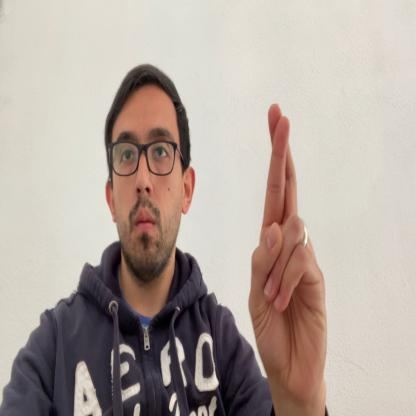R: (249, 103, 328, 396)
